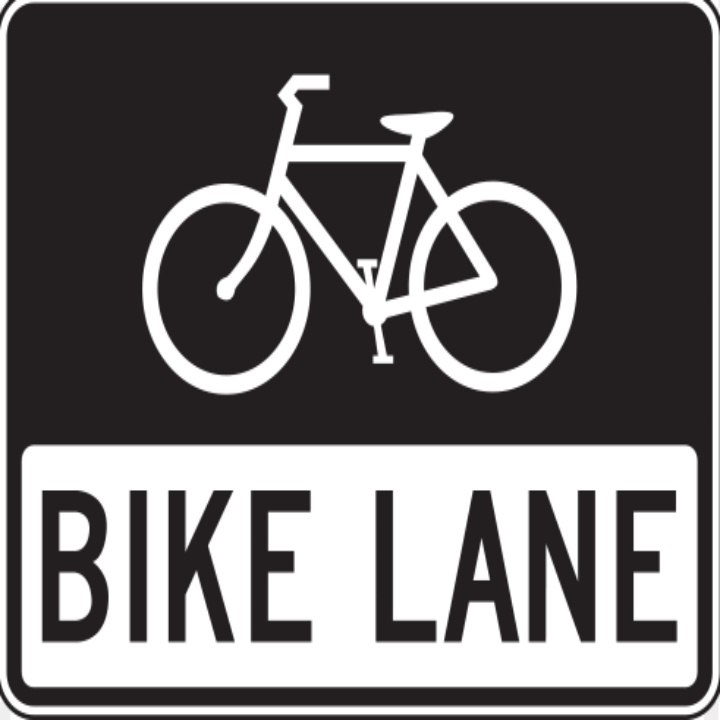bicycle: (129, 49, 597, 423)
